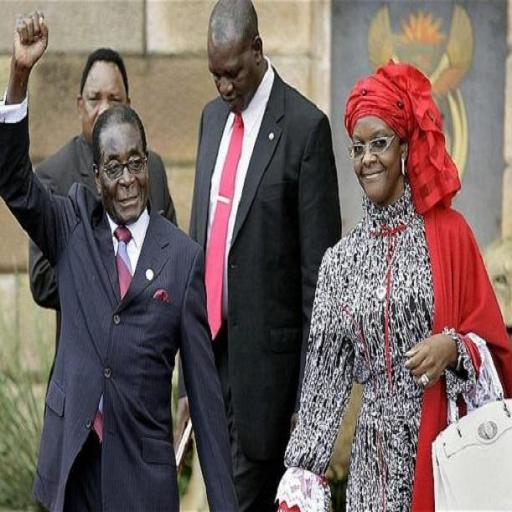person: (0, 12, 237, 511), (278, 62, 511, 510), (190, 0, 341, 511), (37, 49, 129, 195)
